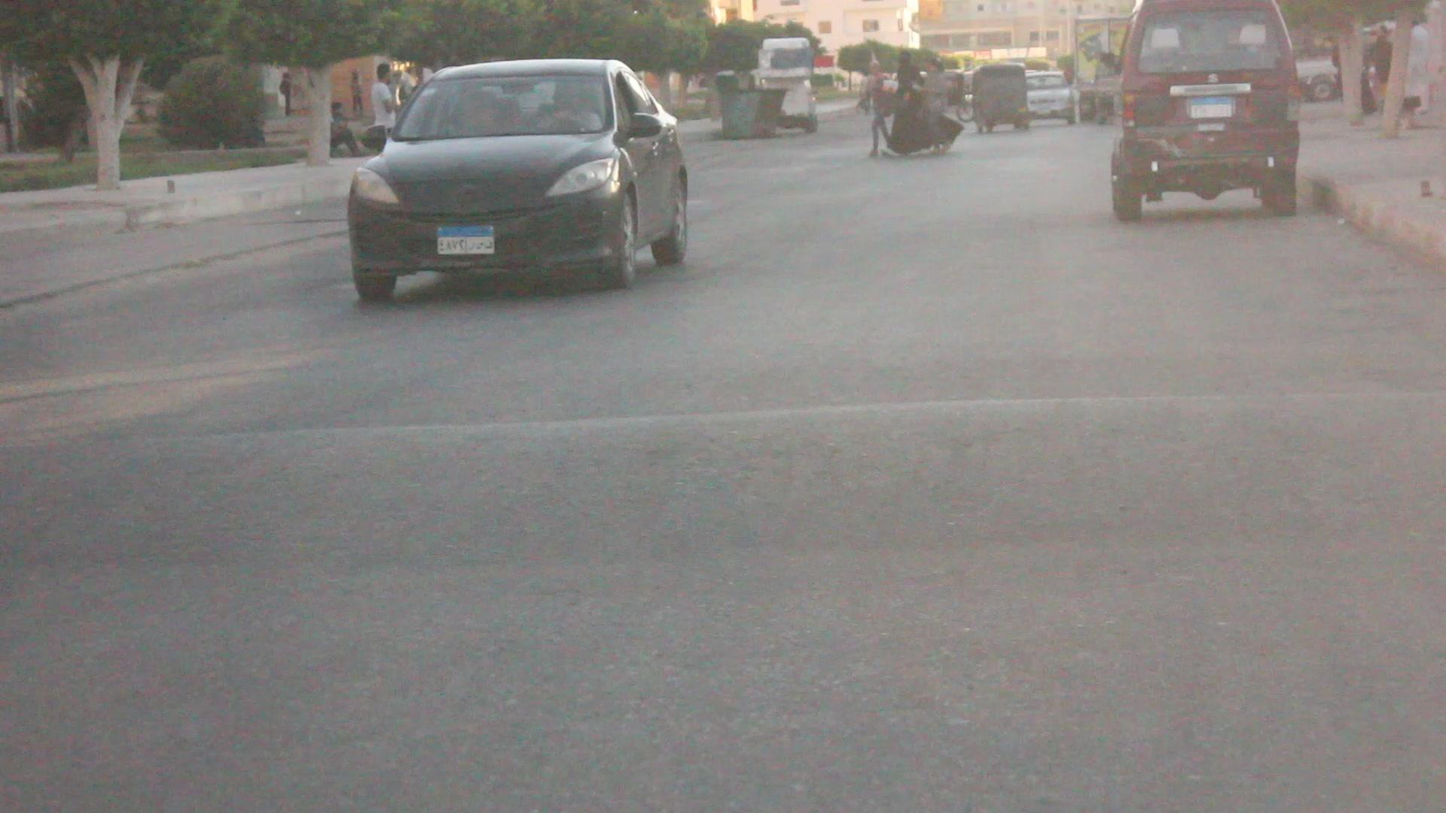Bump: (8, 403, 1446, 574)
